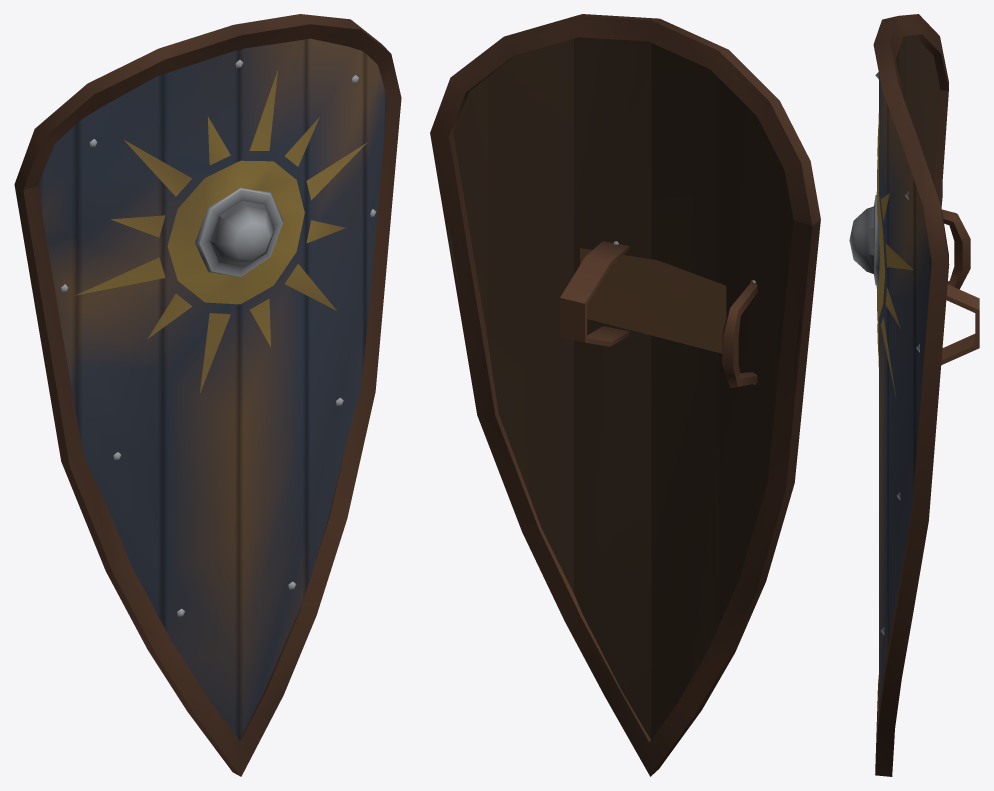
File: shield_kite.glb
The picture shows the model from 3 angles, left to right: view 1: azimuth 30°, elevation 25°; view 2: azimuth 150°, elevation 25°; view 3: azimuth 270°, elevation 25°; orthographic projection. The views are drawn at different scales.
Parts seen in each view (by area): view 1: shield_kite; view 2: shield_kite; view 3: shield_kite.
Boxes of the visible parts, box(x1,y1,x2,y2) form: shield_kite: box(14, 14, 401, 776); shield_kite: box(430, 14, 820, 776); shield_kite: box(849, 14, 979, 776).
Bounding box in the file's own units: 0.5788 × 1.09 × 0.1751.
